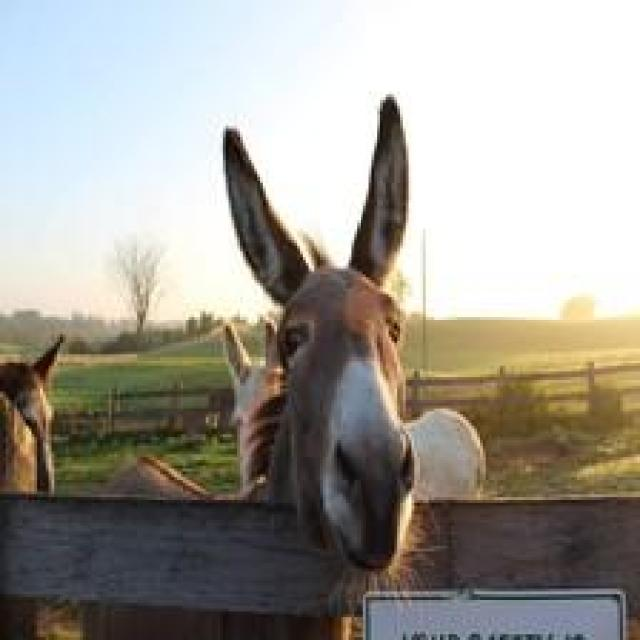Donkey: (77, 92, 483, 637), (220, 91, 486, 508), (0, 332, 66, 637)
